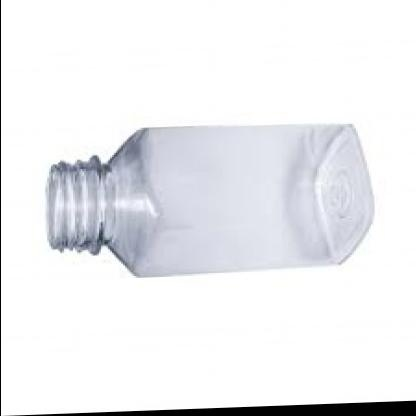trash: (47, 125, 373, 275)
